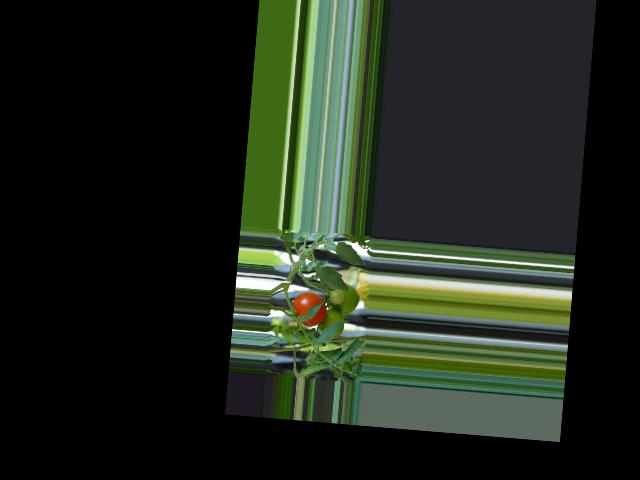tomato: (291, 290, 327, 327)
